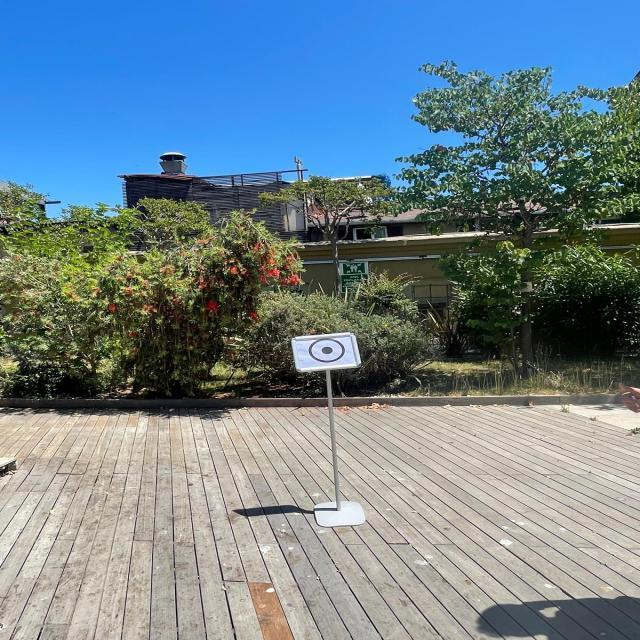Target: (285, 326, 370, 379)
inner: (319, 344, 336, 357)
